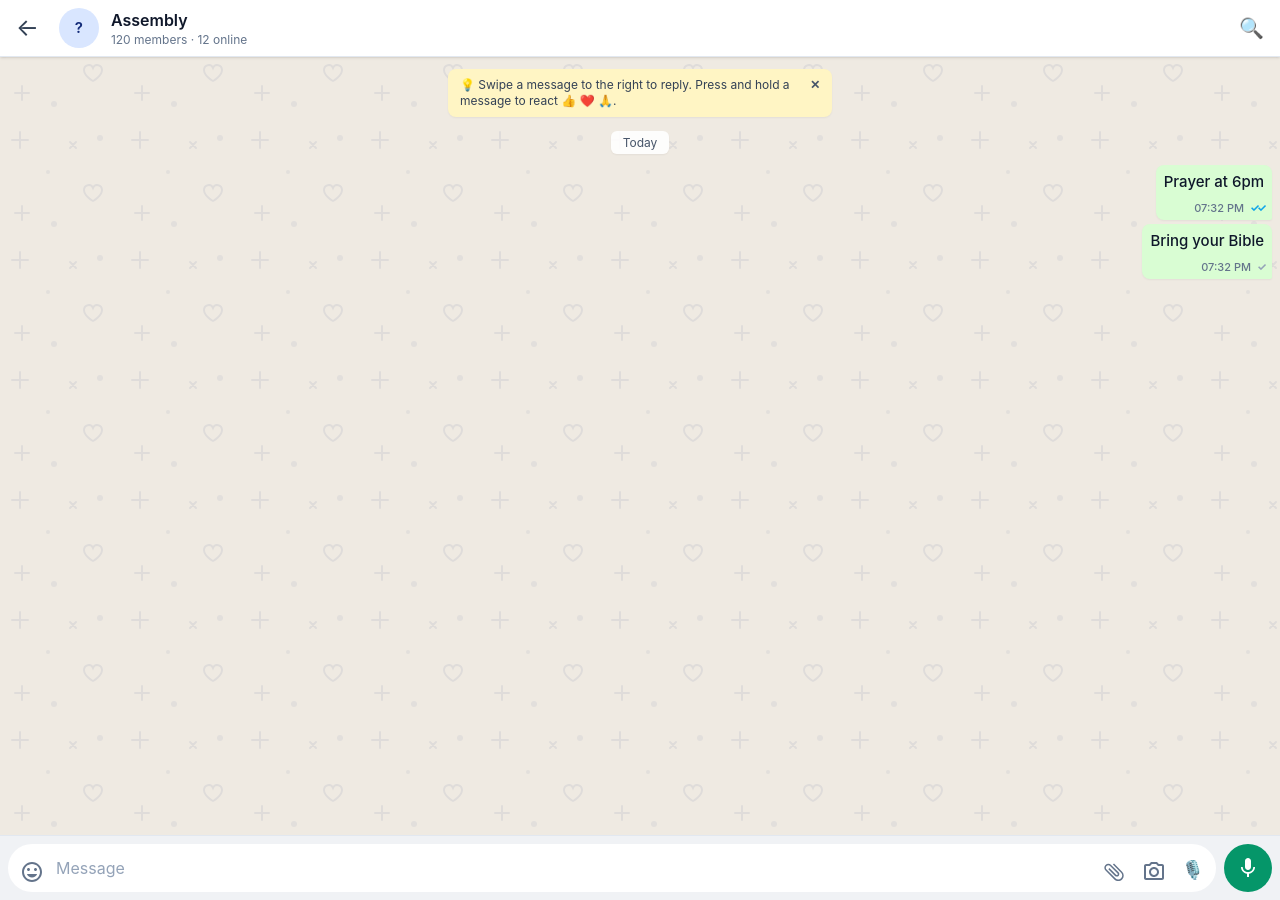
Test case: Group chat: ticks, online count, typing, message info › Message info shows "Seen by 1 of 2"
Right-click the text "Bring your Bible" at point(1207, 241), box [1150,230,1264,252]
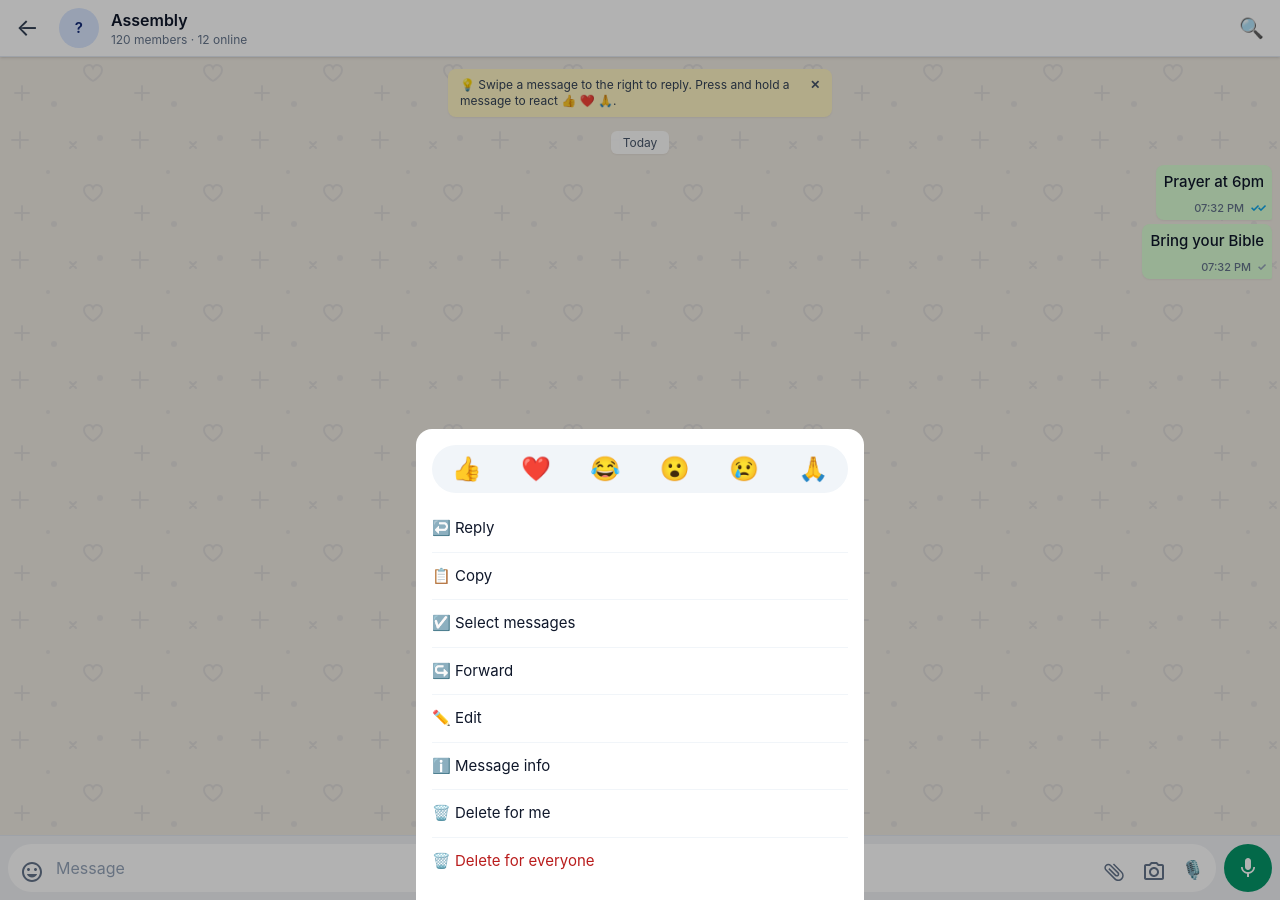
Click the button "ℹ️ Message info". click: point(503, 765)
box: [432,742,848,789]
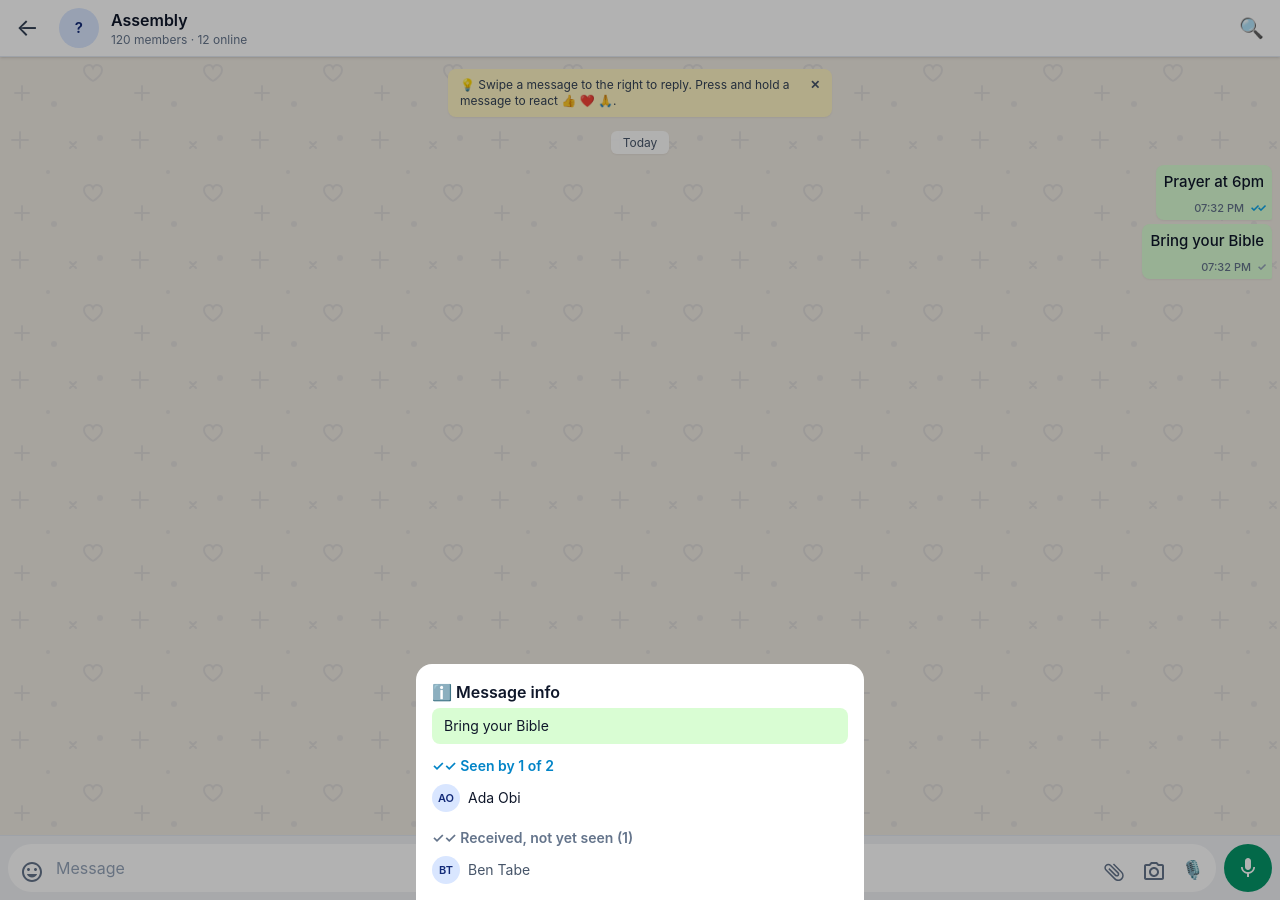
Expected: the text "✓✓ Seen by 1 of 2" is shown, [432,757,554,774]
Expected: the list item "Ada Obi" is shown, [468,789,521,806]
Expected: the text "✓✓ Received, not yet seen (1)" is shown, [432,829,633,846]
